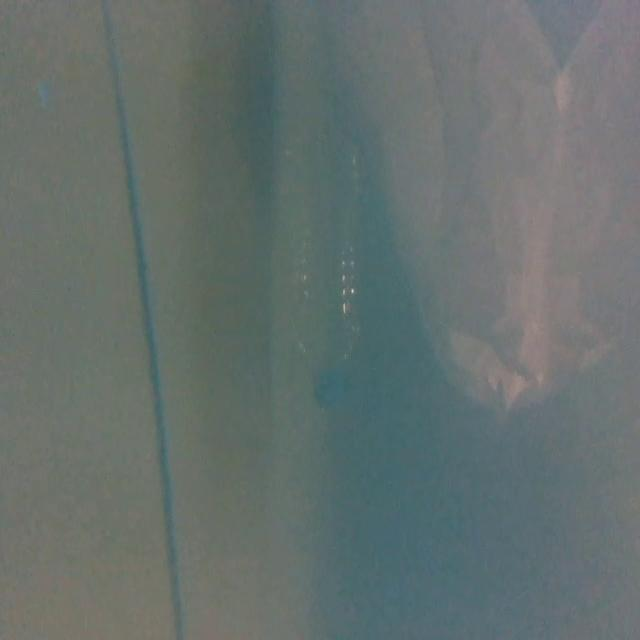plastic bags: (338, 0, 640, 400)
plastic bottle: (285, 135, 366, 405)
